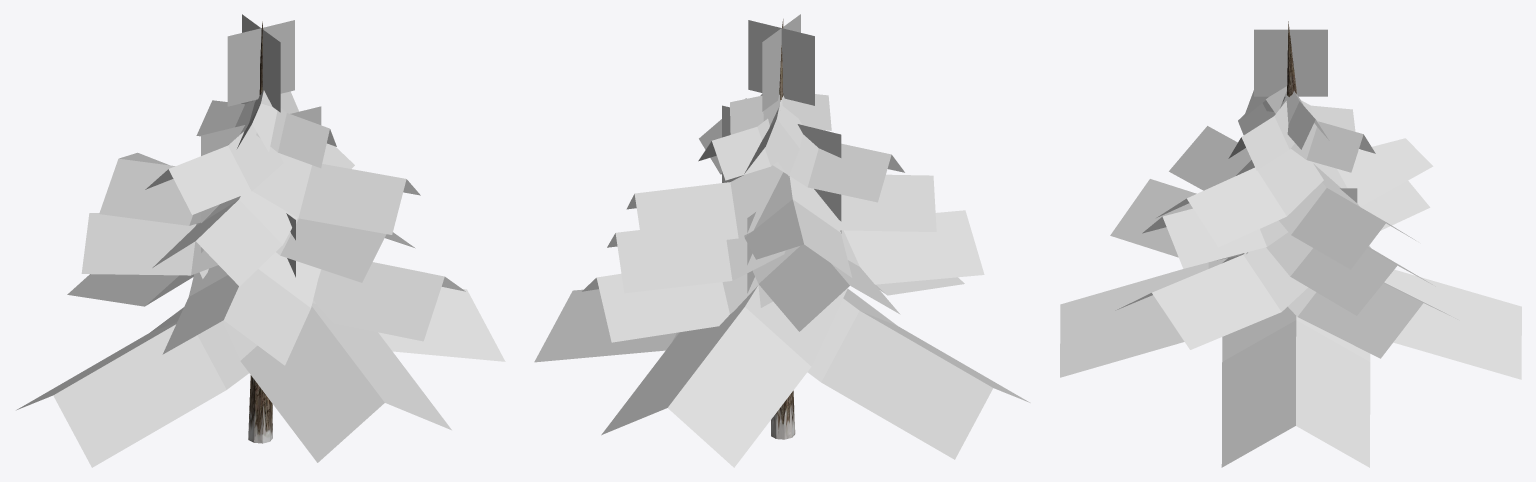
The model's file is pine tree.fbx.
3 renders of one model, left to right at view 1: azimuth 30°, elevation 25°; view 2: azimuth 150°, elevation 25°; view 3: azimuth 270°, elevation 25°, orthographic. The views are drawn at different scales.
Parts seen in each view (by area): view 1: Plane.022, Cylinder; view 2: Plane.022, Cylinder; view 3: Plane.022.
Boxes of the visible parts, <box> form: Plane.022: <box>16,14,505,467</box>; Cylinder: <box>248,21,272,443</box>; Plane.022: <box>534,14,1030,467</box>; Cylinder: <box>771,19,795,439</box>; Plane.022: <box>1060,29,1521,467</box>.
Bounding box in the file's own units: 1845 × 1764 × 1846.
